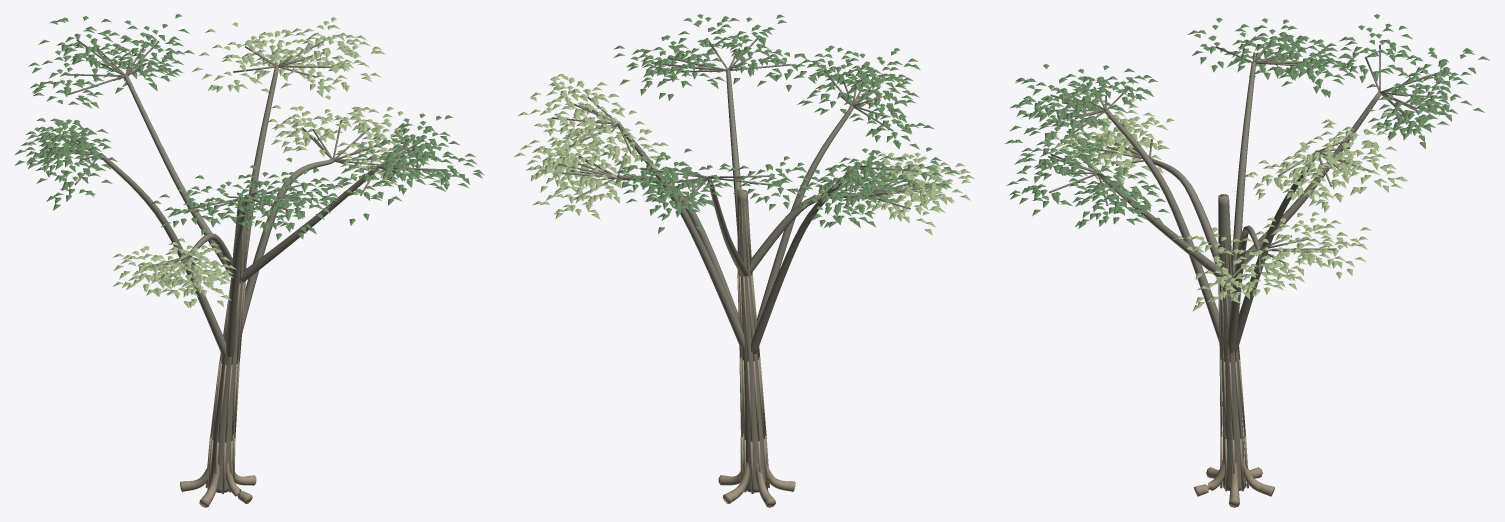
Rendered from grove-specimen-5.glb.
3 views of the same model, side by side, from view 1: azimuth 30°, elevation 25°; view 2: azimuth 150°, elevation 25°; view 3: azimuth 270°, elevation 25° (orthographic). The views are drawn at different scales.
Parts seen in each view (by area): view 1: grove-specimen-5; view 2: grove-specimen-5; view 3: grove-specimen-5.
Part boxes in pixels (x1,y1,x2,y2): grove-specimen-5: (15,14,483,507); grove-specimen-5: (513,14,974,507); grove-specimen-5: (1005,14,1489,507).
Bounding box in the file's own units: 9.03 × 8.59 × 9.03.
